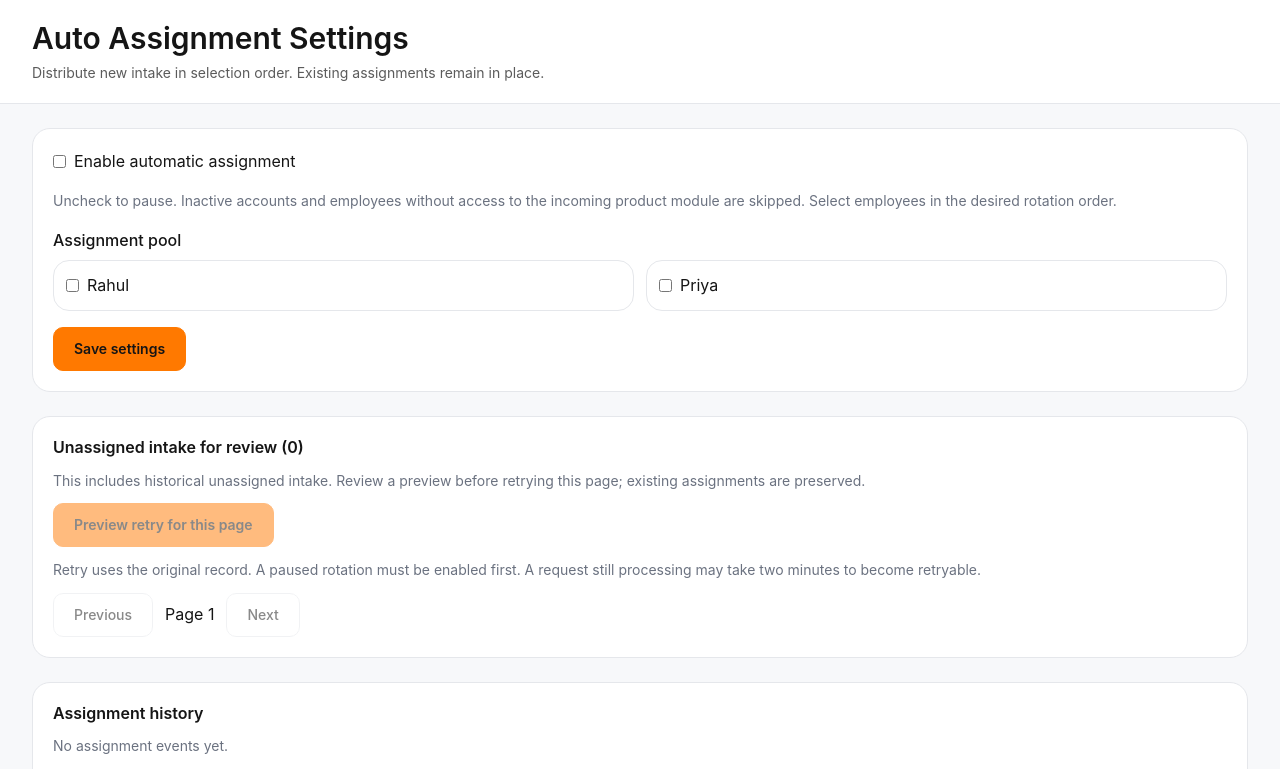
it: Owner auto assignment controls › saves the selected employee order with the loaded settings version
Step 1. Click the checkbox labelled "Priya" → (666, 286), box [659, 279, 672, 292]
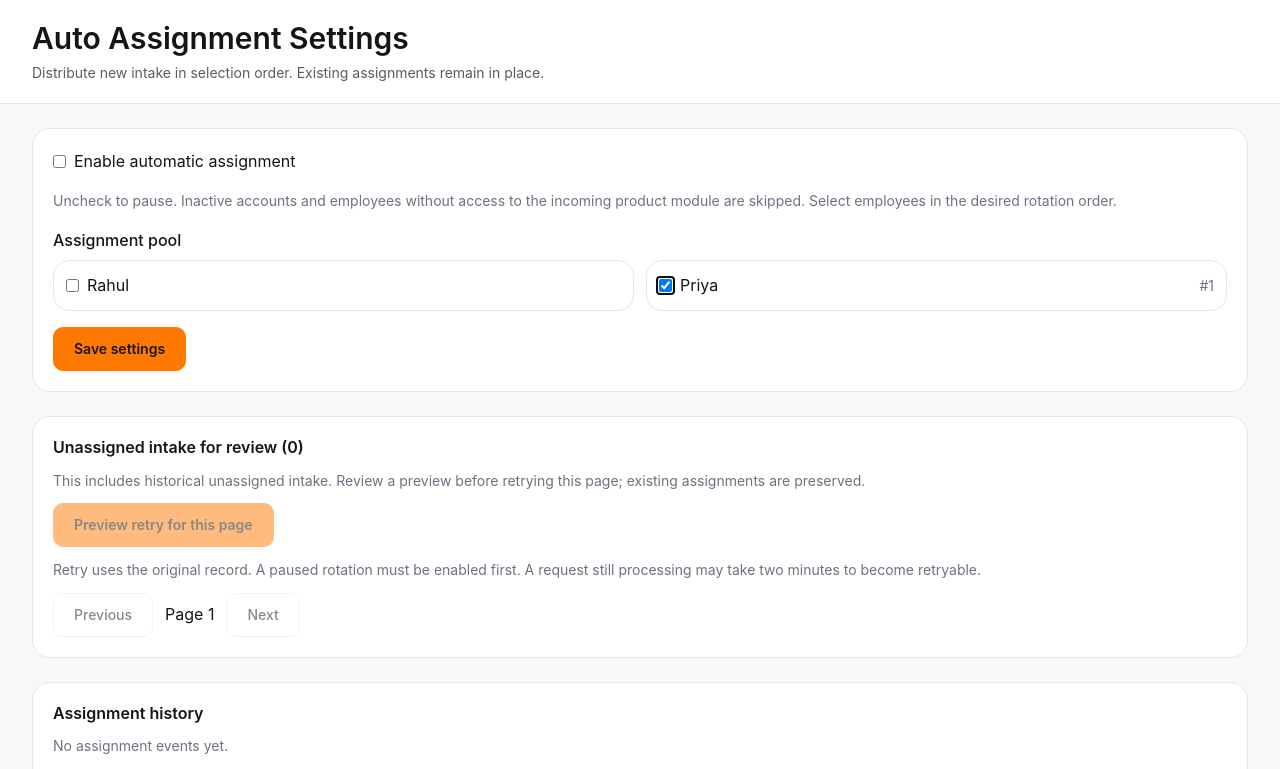
Step 2. Click the checkbox labelled "Rahul" → (72, 286), box [66, 279, 79, 292]
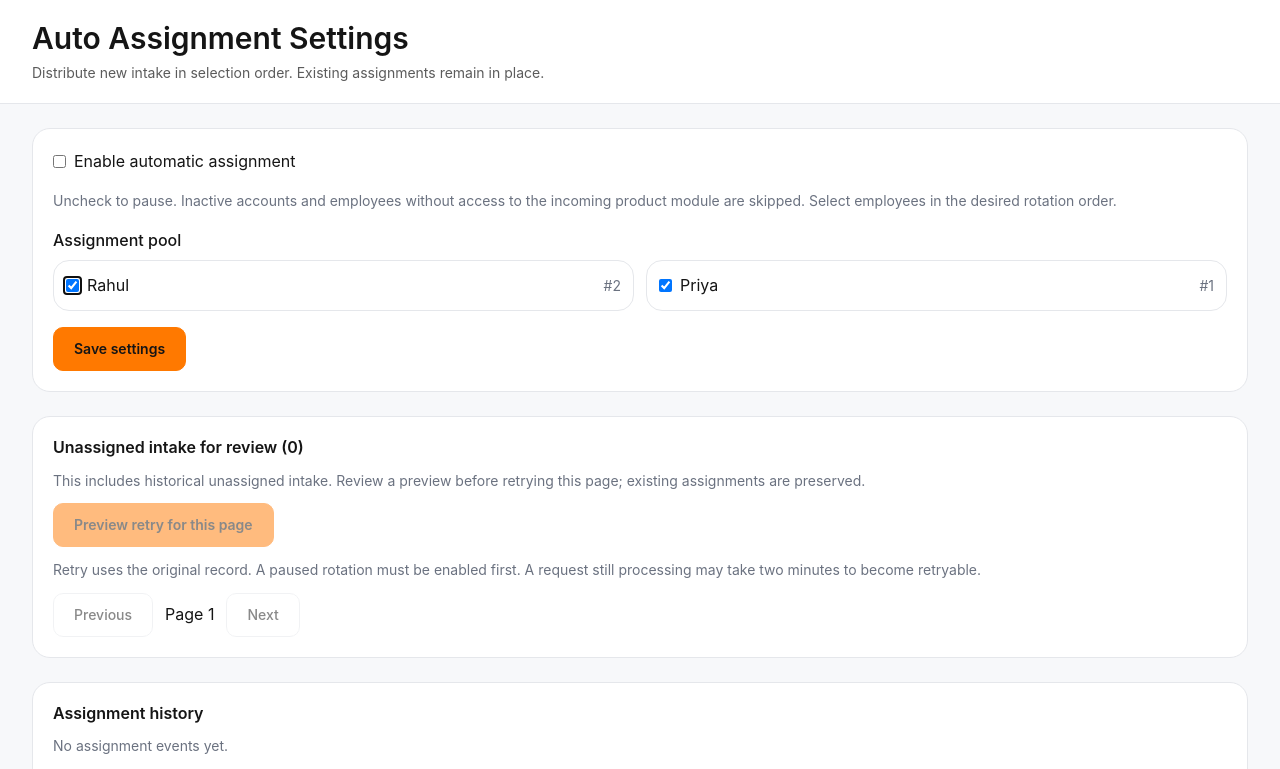
Step 3. Click the checkbox labelled "Enable automatic assignment" → (60, 162), box [53, 155, 66, 168]
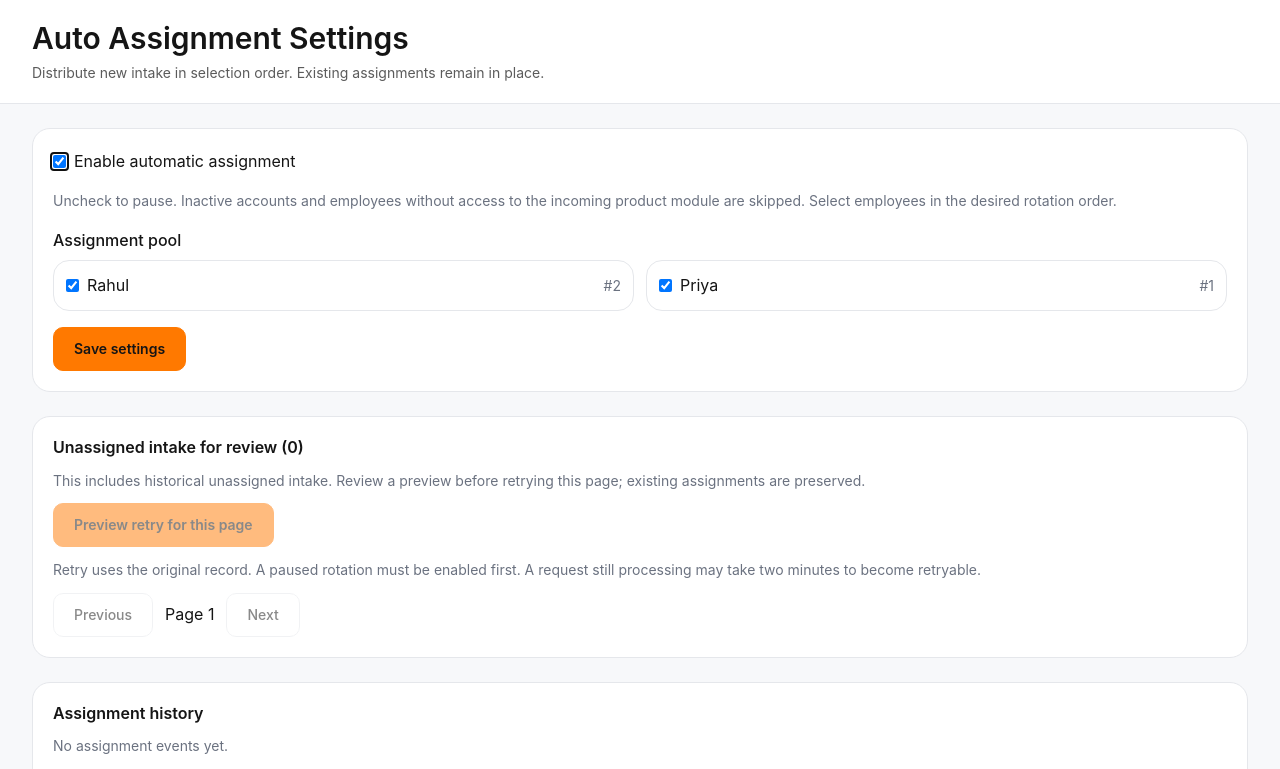
Step 4. Click the button "Save settings" → (120, 349), box [53, 327, 186, 371]
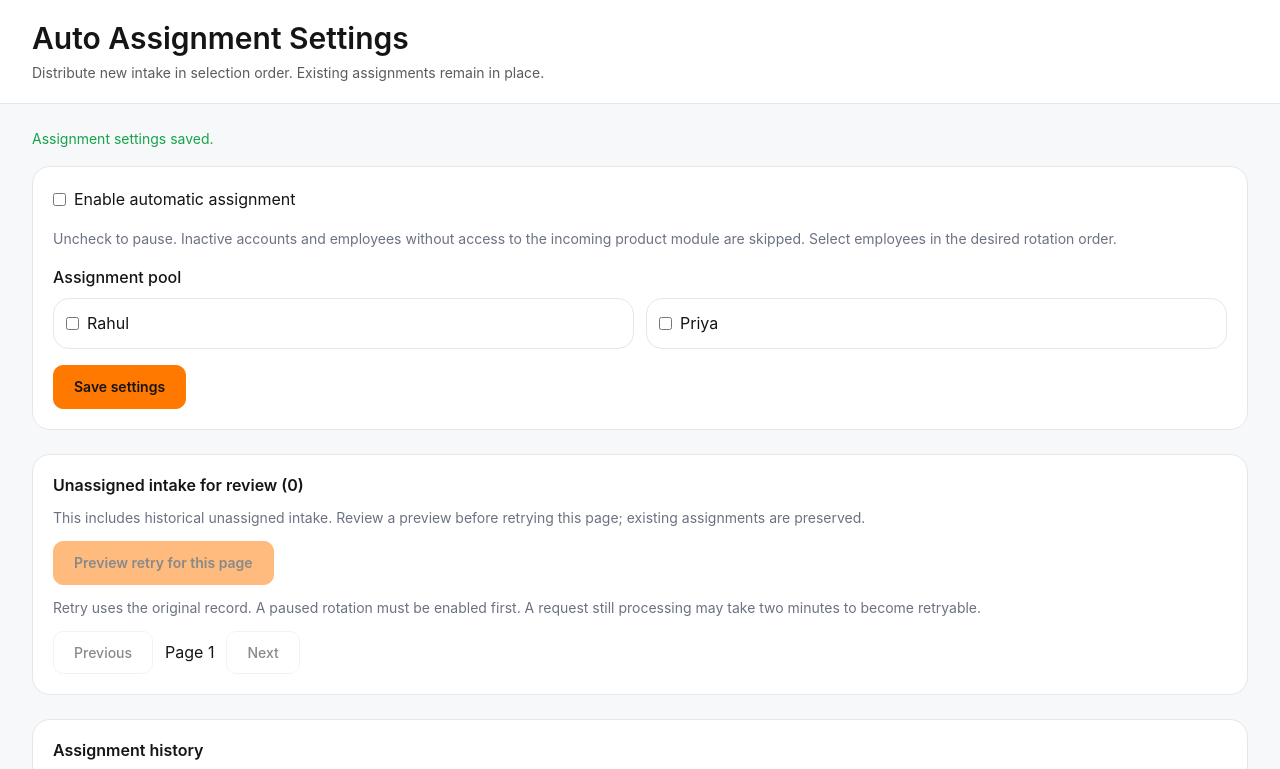
Expected: the text "Assignment settings saved." is shown, [32, 130, 214, 147]
